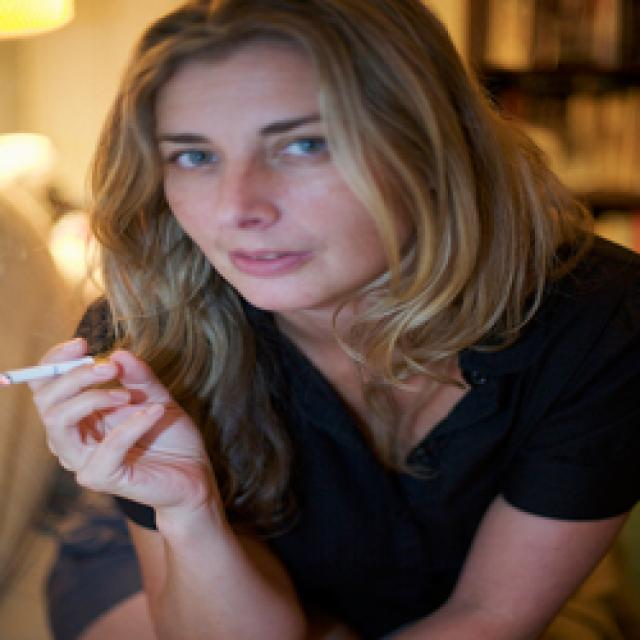Smooking: (2, 350, 109, 388)
